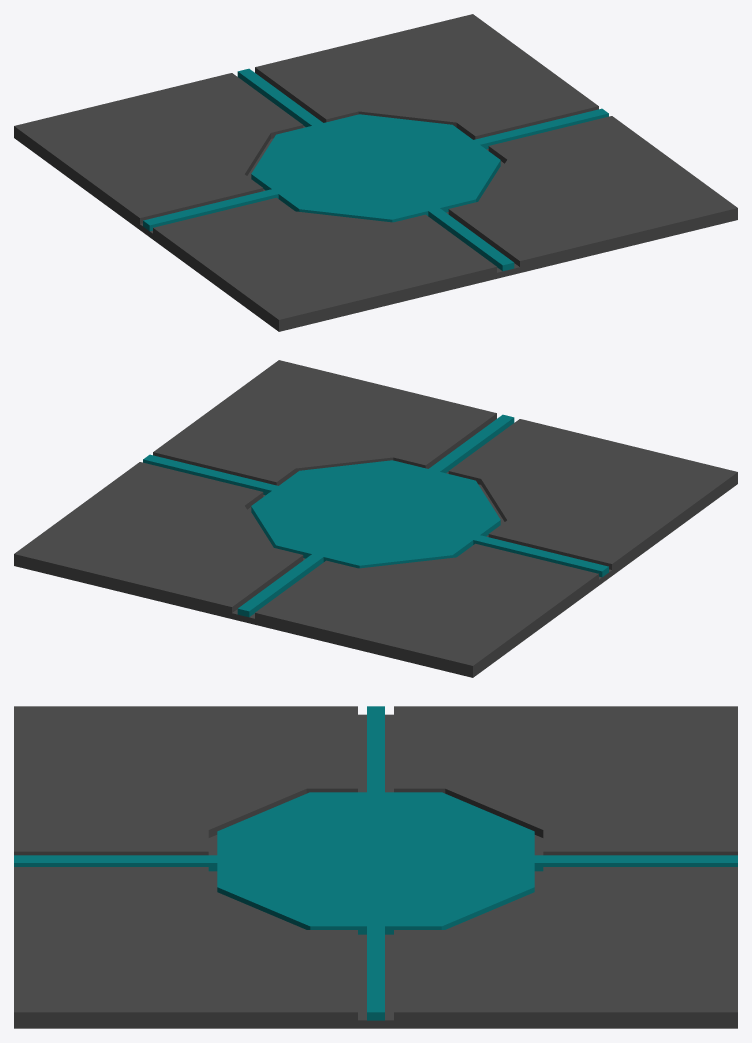
File: PowerGround.glb
3 renders of one model, top to bottom at view 1: azimuth 30°, elevation 25°; view 2: azimuth 150°, elevation 25°; view 3: azimuth 270°, elevation 25°, orthographic. The views are drawn at different scales.
Parts seen in each view (by area): view 1: Cube, Floor_Oct, Arm_2, Arm_4, Arm_3, Arm_1; view 2: Cube, Floor_Oct, Arm_2, Arm_1, Arm_3, Arm_4; view 3: Cube, Floor_Oct, Arm_1, Arm_4, Arm_3, Arm_2.
Part boxes in pixels (left/top/right/bottom): Cube: left=14, top=14, right=737, bottom=331; Floor_Oct: left=251, top=114, right=500, bottom=222; Arm_2: left=143, top=189, right=278, bottom=231; Arm_4: left=428, top=208, right=514, bottom=271; Arm_3: left=473, top=108, right=608, bottom=149; Arm_1: left=237, top=68, right=322, bottom=127; Cube: left=14, top=360, right=737, bottom=677; Floor_Oct: left=251, top=460, right=500, bottom=568; Arm_2: left=473, top=535, right=608, bottom=577; Arm_1: left=237, top=554, right=323, bottom=617; Arm_3: left=143, top=454, right=278, bottom=495; Arm_4: left=429, top=414, right=514, bottom=473; Cube: left=14, top=706, right=737, bottom=1028; Floor_Oct: left=217, top=792, right=534, bottom=934; Arm_1: left=534, top=855, right=737, bottom=871; Arm_4: left=14, top=855, right=217, bottom=871; Arm_3: left=367, top=926, right=384, bottom=1020; Arm_2: left=367, top=706, right=384, bottom=792.
Bounding box in the file's own units: 4 × 0.1 × 4.
